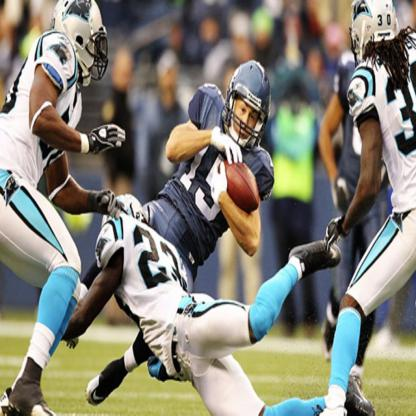face: (231, 94, 262, 145), (79, 37, 98, 84)
